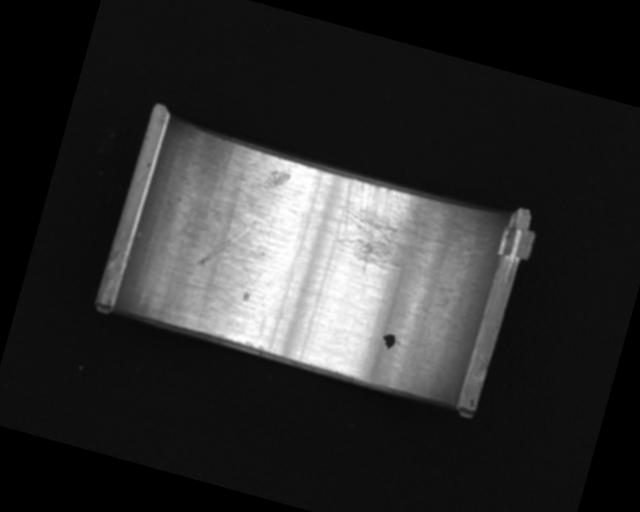blot: (379, 331, 398, 351)
bruise: (260, 165, 292, 194), (240, 290, 251, 304)
nick: (198, 207, 255, 275)
scratch: (325, 176, 475, 297)
